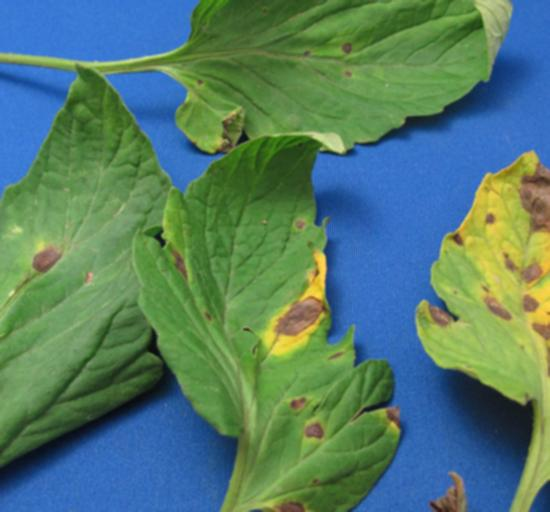Tomato Early blight leaf: (143, 131, 404, 512), (0, 62, 169, 512), (140, 0, 550, 166), (423, 140, 550, 512)
